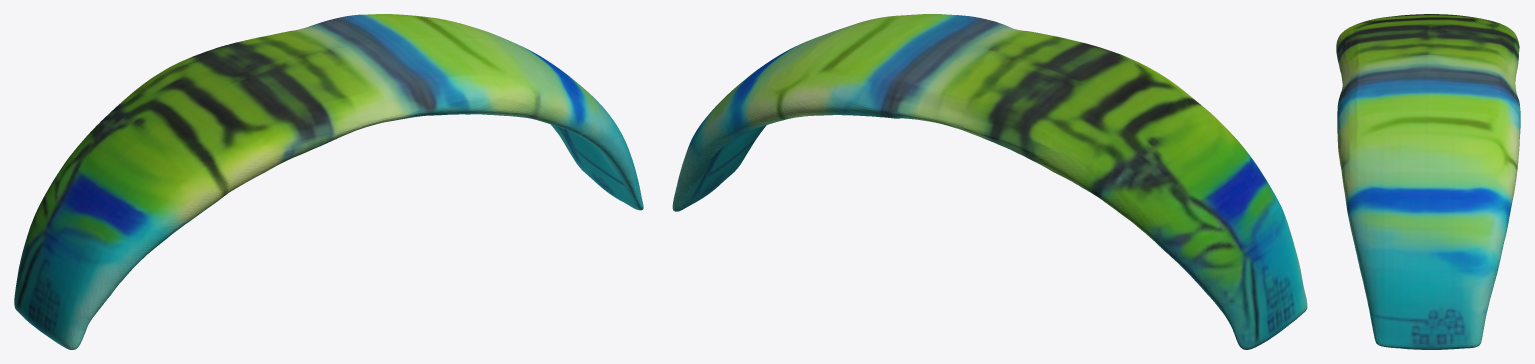
The model's file is paraglider.glb.
The picture shows the model from 3 angles, left to right: view 1: azimuth 30°, elevation 25°; view 2: azimuth 150°, elevation 25°; view 3: azimuth 270°, elevation 25°; orthographic projection. The views are drawn at different scales.
Parts seen in each view (by area): view 1: world; view 2: world; view 3: world.
Boxes of the visible parts, box(x1,y1,x2,y2) form: world: box(14, 14, 643, 349); world: box(672, 14, 1307, 349); world: box(1336, 14, 1520, 349).
Size of the model in its own units: 0.998 by 0.3508 by 0.3276.
